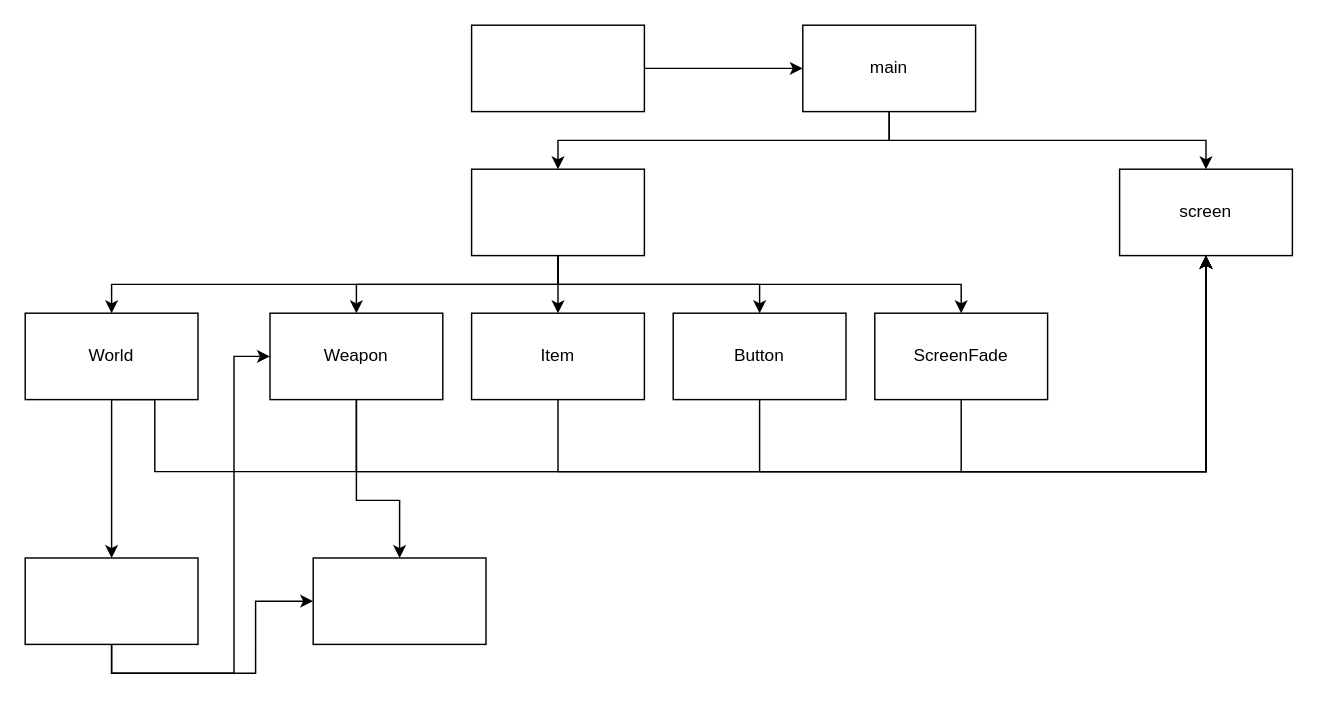
Image size: 1318x710. Some labels were removed from this diagram. The shapes that lost their labels are listed below. From the top down, each one's centre as x and y in pixels, then its label:
At (x=557, y=68): "level data".
At (x=557, y=212): "main game objects".
At (x=111, y=600): "Character".
At (x=399, y=600): "Bossball".
